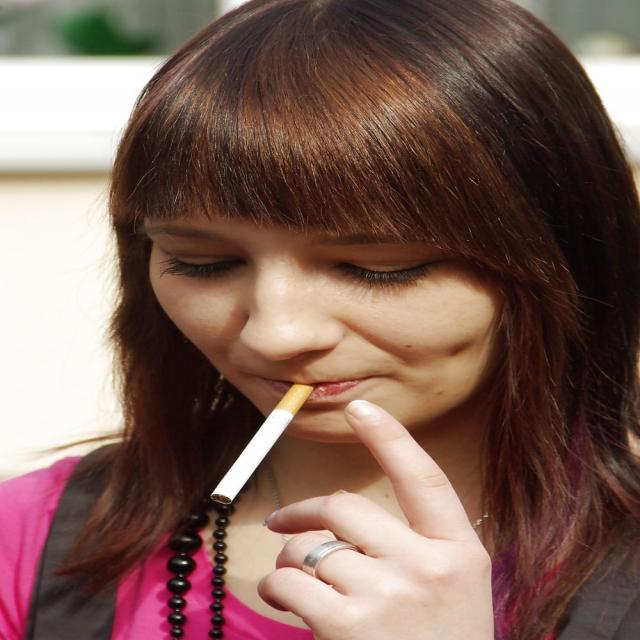cigarette: (202, 378, 325, 509)
